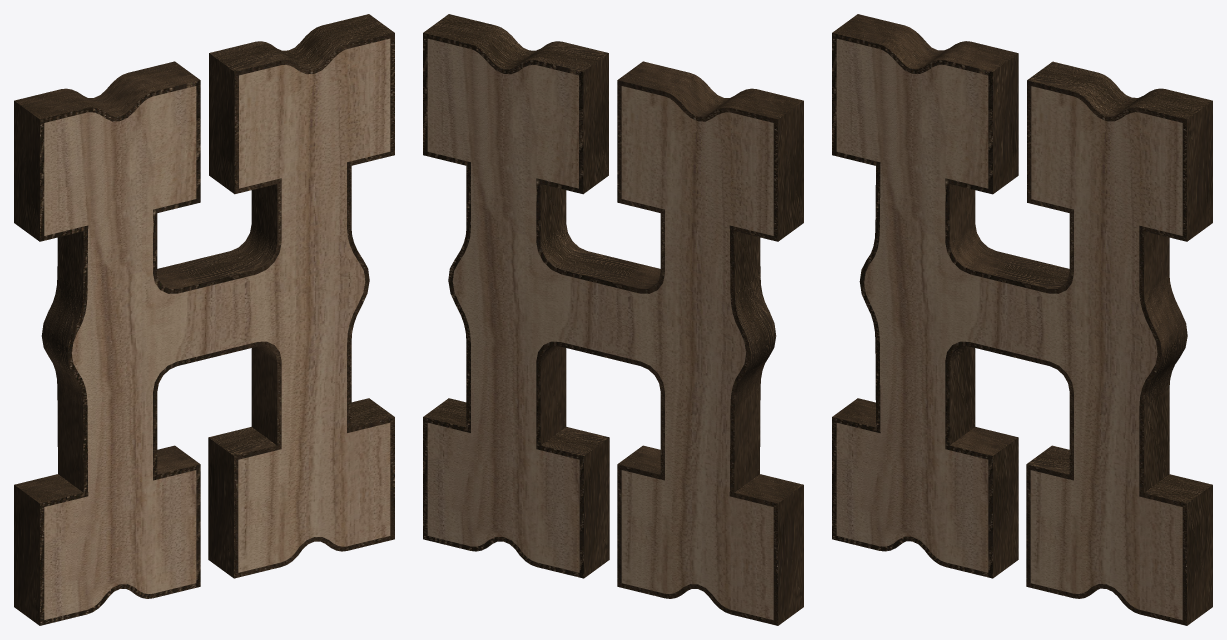
3 renders of one model, left to right at view 1: azimuth 30°, elevation 25°; view 2: azimuth 150°, elevation 25°; view 3: azimuth 330°, elevation 25°, orthographic.
Visible parts, largest first — view 1: H, H_outline; view 2: H, H_outline; view 3: H, H_outline.
Boxes of the visible parts, x1,y1,x2,y2 form: H: [44, 38, 390, 619]; H_outline: [14, 14, 394, 625]; H: [427, 38, 773, 619]; H_outline: [423, 14, 803, 625]; H: [836, 38, 1182, 619]; H_outline: [832, 14, 1212, 625].
Size of the model in its own units: 79.79 by 109 by 10.
2 materials, 2 textured.
